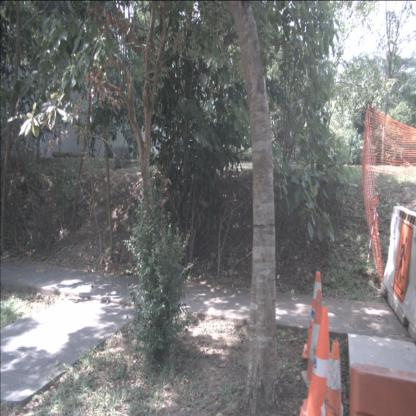movable_object-barrier: (380, 203, 415, 346), (350, 362, 416, 416)
movable_object-trafficcone: (299, 306, 331, 416), (300, 288, 324, 388), (302, 268, 323, 360), (320, 338, 344, 415)
